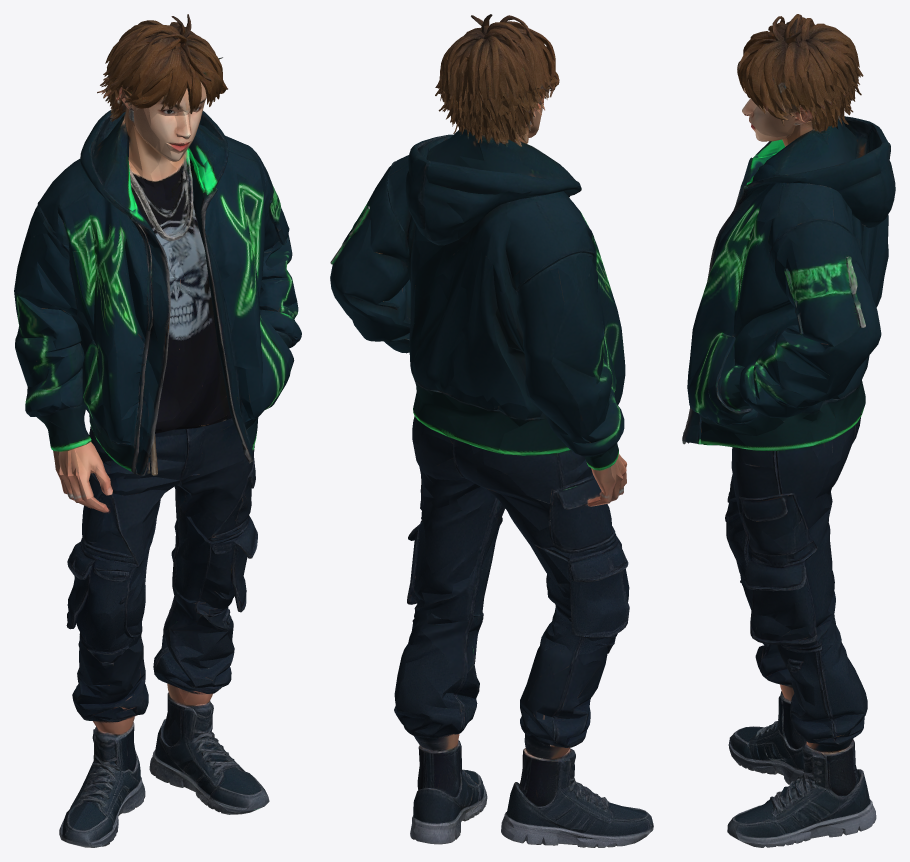
The model's file is blackdevil-indie.glb.
3 renders of one model, left to right at view 1: azimuth 30°, elevation 25°; view 2: azimuth 150°, elevation 25°; view 3: azimuth 270°, elevation 25°, orthographic. The views are drawn at different scales.
Bounding box in the file's own units: 0.6752 × 1.9 × 0.462.
1 material, 1 textured.
